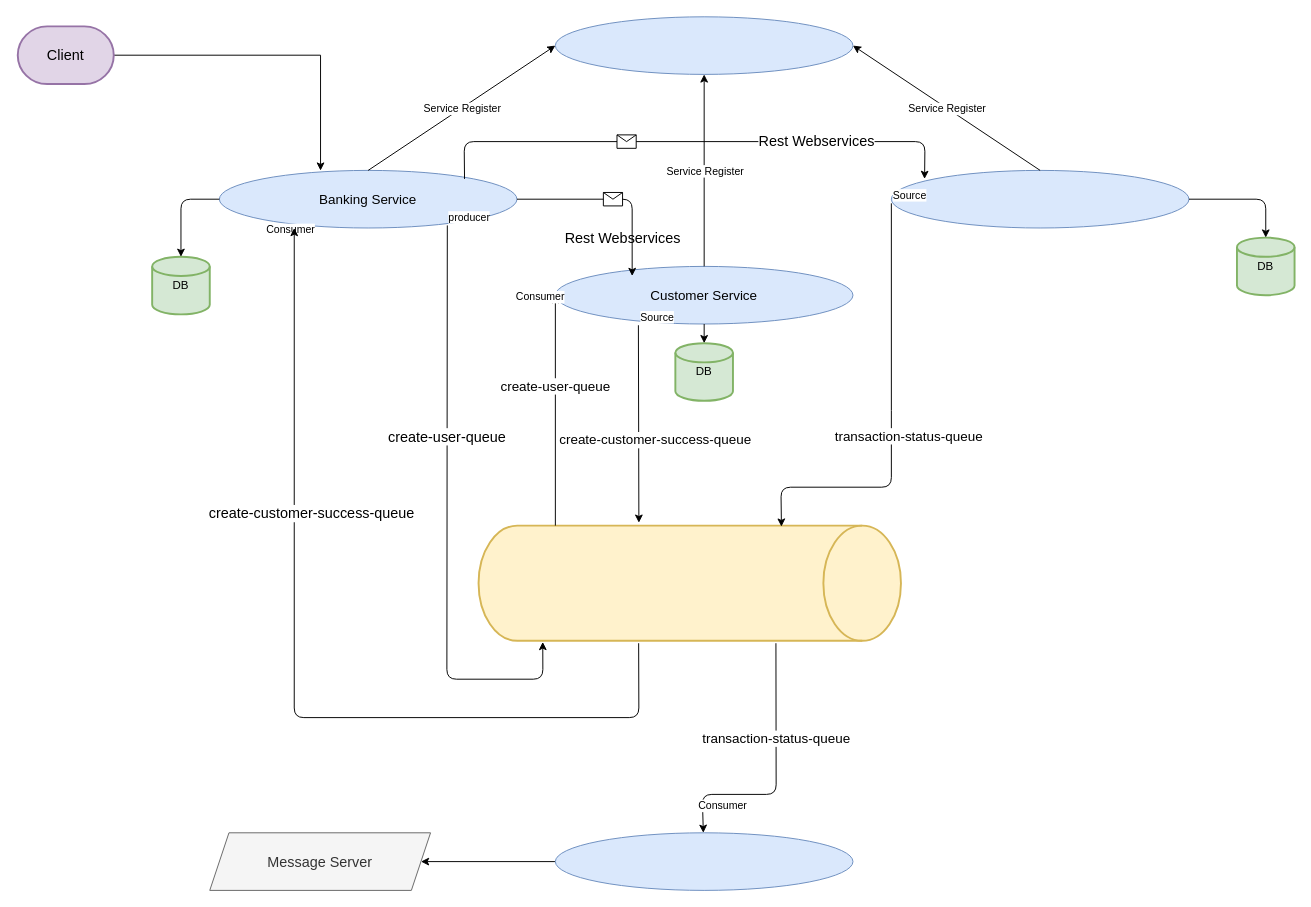
Image size: 1311x907. Some labels were removed from this diagram. The shapes that lost their labels are listed below. From the top down, each one's centre as x and y in pixels, then its label:
At pixel 703 45: "Discovery Service".
At pixel 1039 198: "Account Service".
At pixel 689 582: "Active MQ".
At pixel 703 861: "Notification Service".
